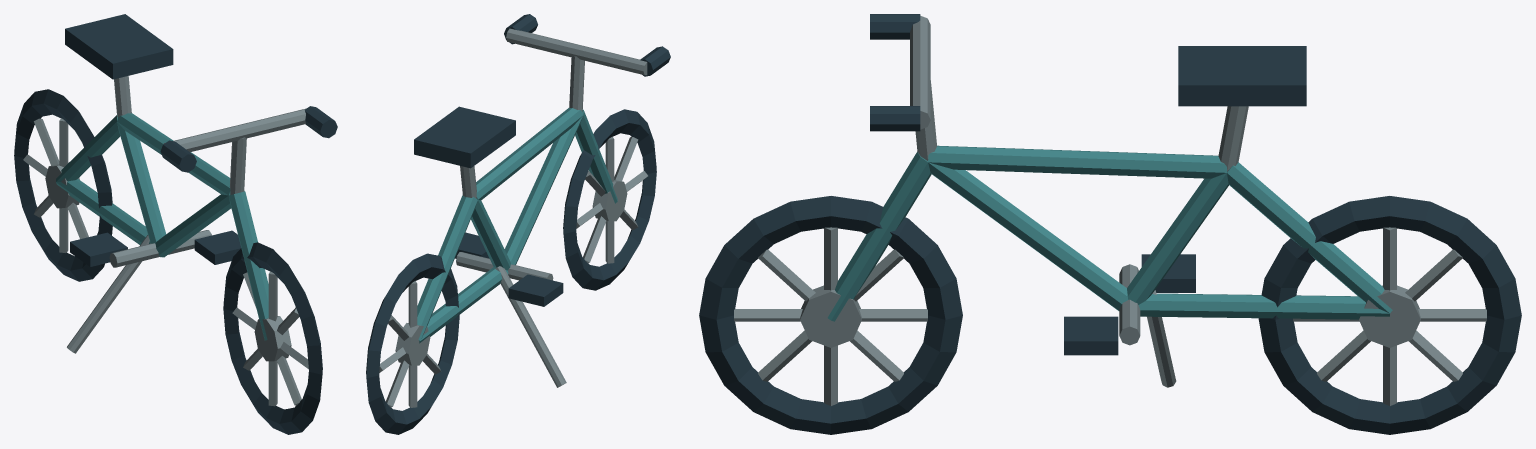
Rendered from TorusTransport_BicycleA.obj.
The picture shows the model from 3 angles, left to right: view 1: azimuth 30°, elevation 25°; view 2: azimuth 150°, elevation 25°; view 3: azimuth 270°, elevation 25°; orthographic projection. The views are drawn at different scales.
Parts seen in each view (by area): view 1: TorusTransport_BicycleA; view 2: TorusTransport_BicycleA; view 3: TorusTransport_BicycleA.
Boxes of the visible parts, x1,y1,x2,y2 form: TorusTransport_BicycleA: (14,14,337,434); TorusTransport_BicycleA: (366,14,670,434); TorusTransport_BicycleA: (699,14,1521,434).
Bounding box in the file's own units: 0.1576 × 0.2663 × 0.53.
Materials: 1 (1 with a texture image).
